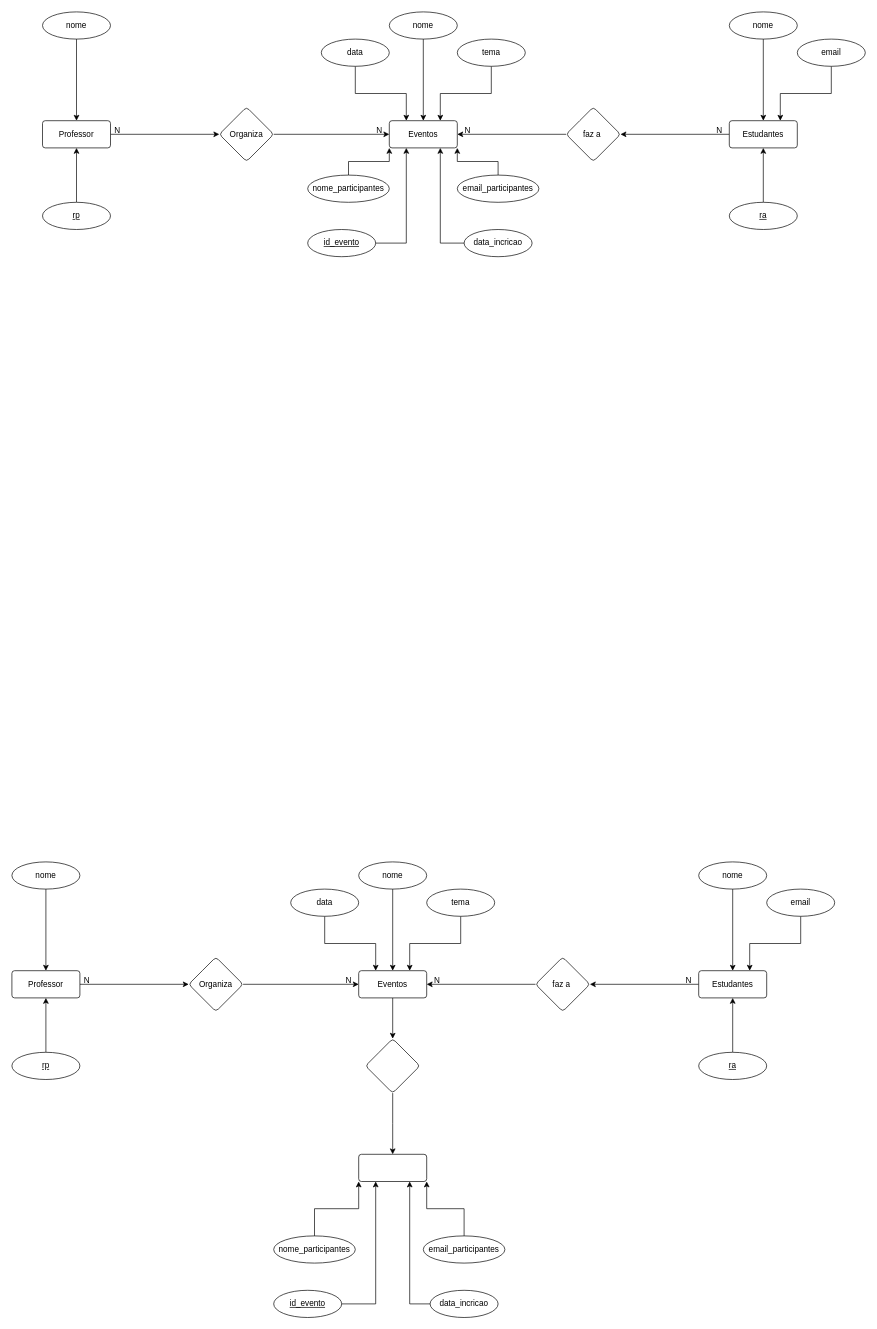
The diagram is 877 pixels wide and 1329 high, and some of its shapes have lost their labels. The shapes that lost their labels are listed below. From the top down, each one's centre as x and y in pixels, then its label:
At (392,1065): "Armazena".
At (392,1168): "Registro".
